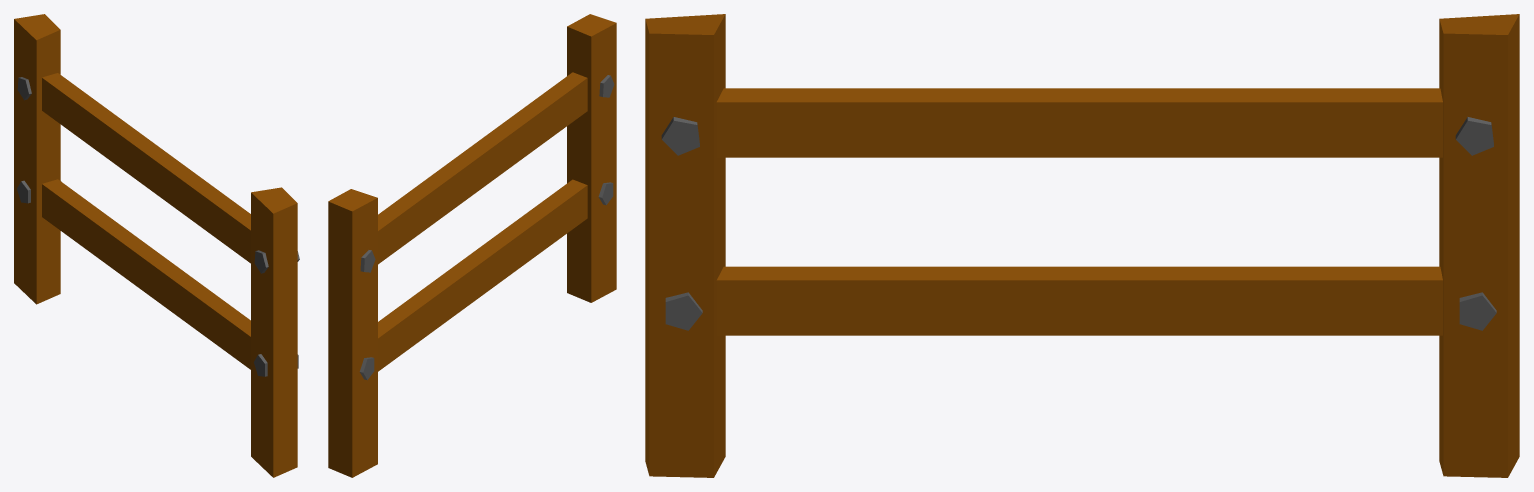
File: fence.fbx
3 renders of one model, left to right at view 1: azimuth 30°, elevation 25°; view 2: azimuth 150°, elevation 25°; view 3: azimuth 270°, elevation 25°, orthographic. The views are drawn at different scales.
Visible parts, largest first — view 1: Cube.001, Cube.002, Cube; view 2: Cube.001, Cube, Cube.002; view 3: Cube.001, Cube, Cube.002, Cylinder.001, Cylinder.003, Cylinder, Cylinder.002.
Part boxes in pixels (bbox=[...]): Cube.001: bbox=[42, 73, 250, 369]; Cube.002: bbox=[251, 187, 297, 477]; Cube: bbox=[14, 14, 60, 304]; Cube.001: bbox=[378, 72, 587, 371]; Cube: bbox=[328, 189, 377, 477]; Cube.002: bbox=[567, 14, 616, 302]; Cube.001: bbox=[716, 88, 1442, 335]; Cube: bbox=[1439, 14, 1519, 477]; Cube.002: bbox=[645, 14, 725, 477]; Cylinder.001: bbox=[1455, 117, 1493, 155]; Cylinder.003: bbox=[661, 117, 699, 155]; Cylinder: bbox=[1459, 292, 1496, 330]; Cylinder.002: bbox=[665, 292, 702, 330].
Size of the model in its own units: 108 by 813 by 1431.
